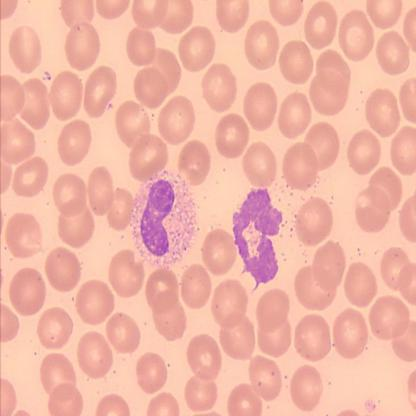Band Neutrophil: (123, 166, 199, 270), (228, 185, 292, 288)
